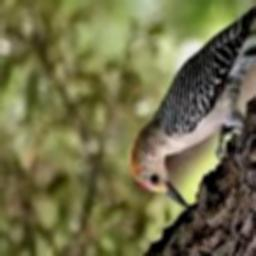Woodpecker: (131, 2, 256, 210)
